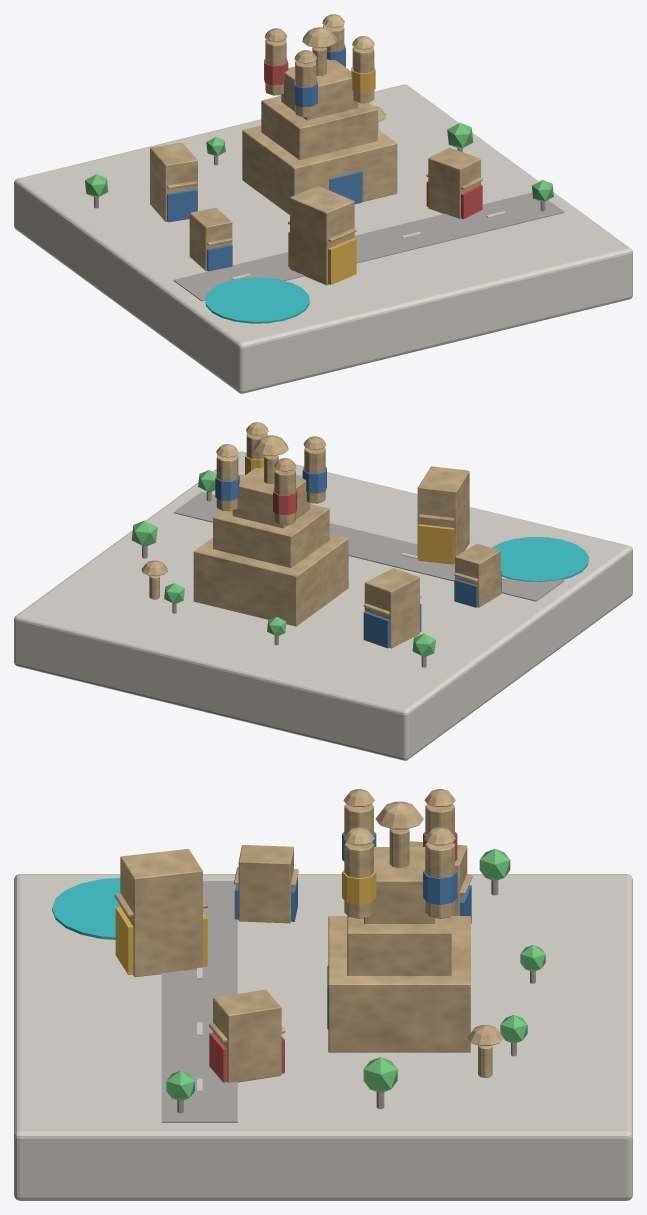
Rendered from jaisalmer_iso.glb.
3 renders of one model, top to bottom at view 1: azimuth 30°, elevation 25°; view 2: azimuth 150°, elevation 25°; view 3: azimuth 270°, elevation 25°, orthographic. The views are drawn at different scales.
Visible parts, largest first — view 1: Slab, IsoArchitecture, Road, Lake, Trim_1, Trim_0, Trim_2, Trim_3, TreeTop_5.2_1.2; view 2: Slab, IsoArchitecture, Road, Lake, Trim_1, Trim_0, Trim_3, TreeTop_5.2_1.2, TurretBand_2, TurretBand_3, TurretBand_0; view 3: Slab, IsoArchitecture, Road, Lake, Trim_1, TreeTop_5.2_1.2, TurretBand_1, TurretBand_3, Trim_2, TreeTop_-5.4_3.6, TreeTop_5.5_-3.0, TreeTop_2.6_4.0.
Boxes of the visible parts, bbox=[...] form: Slab: bbox=[14, 84, 632, 393]; IsoArchitecture: bbox=[150, 14, 482, 285]; Road: bbox=[173, 192, 564, 301]; Lake: bbox=[205, 277, 309, 323]; Trim_1: bbox=[288, 231, 356, 284]; Trim_0: bbox=[167, 189, 197, 222]; Trim_2: bbox=[426, 181, 482, 219]; Trim_3: bbox=[207, 244, 232, 271]; TreeTop_5.2_1.2: bbox=[447, 122, 473, 148]; Slab: bbox=[14, 451, 632, 760]; IsoArchitecture: bbox=[141, 422, 501, 648]; Road: bbox=[173, 491, 564, 601]; Lake: bbox=[491, 537, 588, 581]; Trim_1: bbox=[418, 524, 454, 564]; Trim_0: bbox=[363, 603, 421, 648]; Trim_3: bbox=[454, 571, 501, 607]; TreeTop_5.2_1.2: bbox=[131, 520, 157, 546]; TurretBand_2: bbox=[273, 488, 297, 514]; TurretBand_3: bbox=[215, 475, 239, 500]; TurretBand_0: bbox=[302, 466, 326, 493]; Slab: bbox=[14, 874, 632, 1200]; IsoArchitecture: bbox=[114, 789, 503, 1082]; Road: bbox=[161, 881, 237, 1122]; Lake: bbox=[52, 877, 120, 939]; Trim_1: bbox=[115, 907, 207, 974]; TreeTop_5.2_1.2: bbox=[363, 1057, 397, 1092]; TurretBand_1: bbox=[342, 870, 376, 904]; TurretBand_3: bbox=[423, 870, 457, 904]; Trim_2: bbox=[209, 1033, 284, 1082]; TreeTop_-5.4_3.6: bbox=[479, 849, 510, 880]; TreeTop_5.5_-3.0: bbox=[166, 1070, 194, 1100]; TreeTop_2.6_4.0: bbox=[500, 1015, 527, 1042].
Bounding box in the file's own units: 13 × 6.6 × 13.
8 materials, 1 textured.
